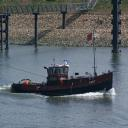tugboat: (12, 59, 116, 103)
